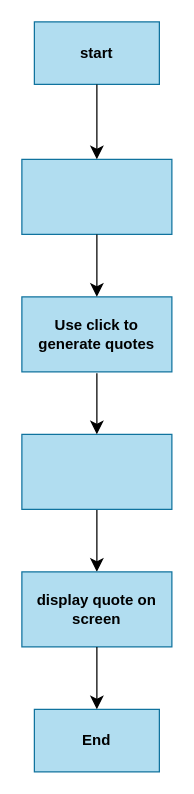
This 194x794 diagram has some shape labels left out. The shapes that lost their labels are listed below. From the top down, each one's centre as x and y in pixels, then its label:
the point at 96,196: load quote list
the point at 96,471: select random quote from list
